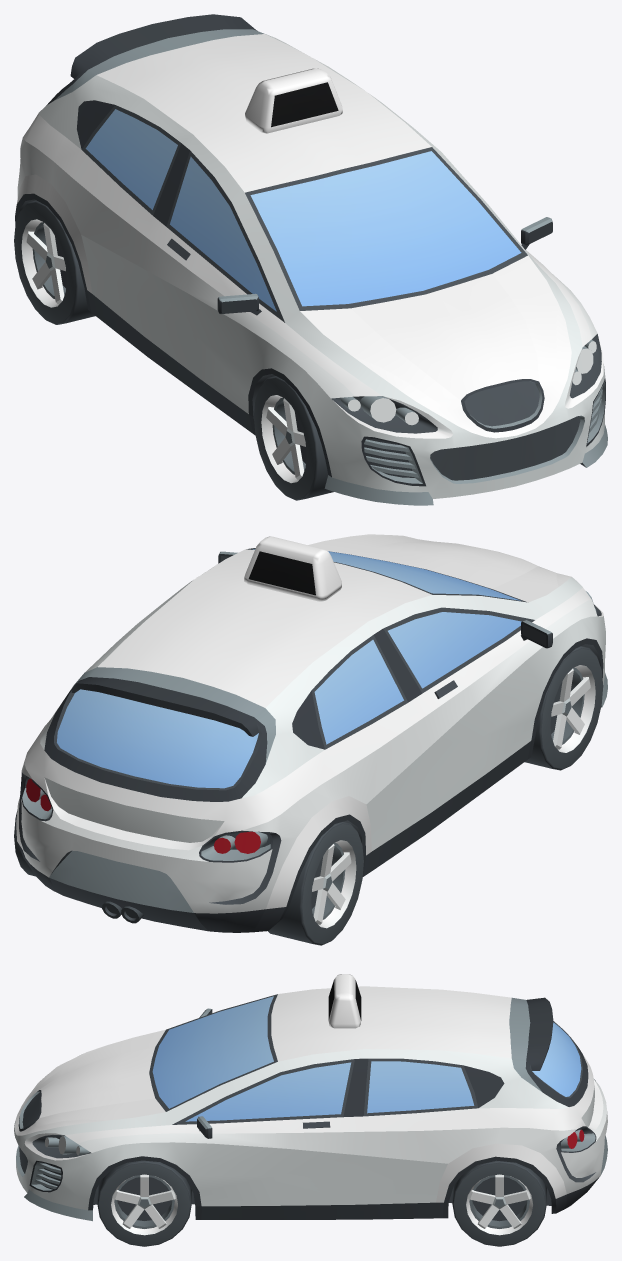
File: Italian_Taxi.fbx
3 renders of one model, top to bottom at view 1: azimuth 30°, elevation 25°; view 2: azimuth 150°, elevation 25°; view 3: azimuth 270°, elevation 25°, orthographic. The views are drawn at different scales.
Parts seen in each view (by area): view 1: Italian_Taxi_body, Italian_Taxi_wheel1, Italian_Taxi_wheel; view 2: Italian_Taxi_body, Italian_Taxi_wheel, Italian_Taxi_wheel1; view 3: Italian_Taxi_body, Italian_Taxi_wheel1, Italian_Taxi_wheel.
Boxes of the visible parts, left/top/right/bottom form: Italian_Taxi_body: left=15, top=14, right=607, bottom=505; Italian_Taxi_wheel1: left=254, top=376, right=333, bottom=500; Italian_Taxi_wheel: left=14, top=200, right=95, bottom=324; Italian_Taxi_body: left=16, top=534, right=607, bottom=932; Italian_Taxi_wheel: left=14, top=811, right=363, bottom=945; Italian_Taxi_wheel1: left=524, top=646, right=603, bottom=770; Italian_Taxi_body: left=14, top=974, right=607, bottom=1221; Italian_Taxi_wheel1: left=97, top=1160, right=191, bottom=1246; Italian_Taxi_wheel: left=452, top=1160, right=546, bottom=1246.
Size of the model in its own units: 0.6627 by 0.5429 by 1.38.
